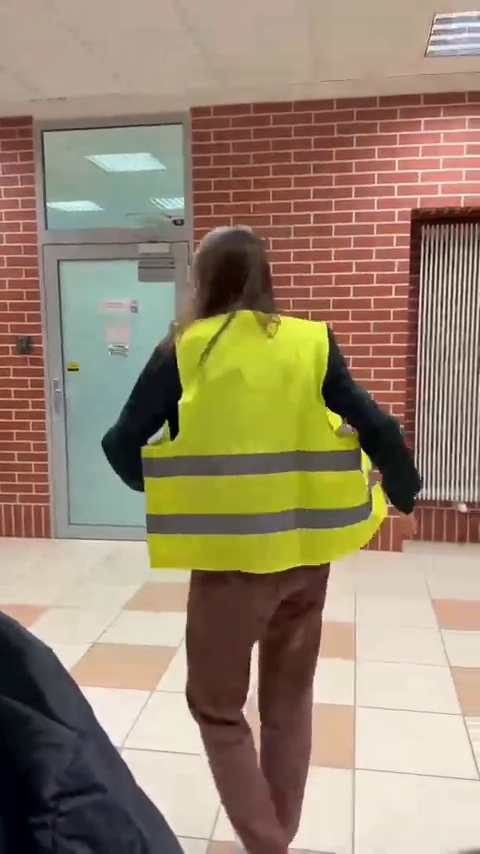vest: (100, 223, 420, 840)
